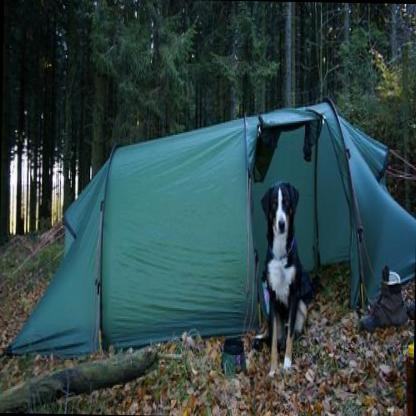Appenzeller: (256, 176, 310, 378)
